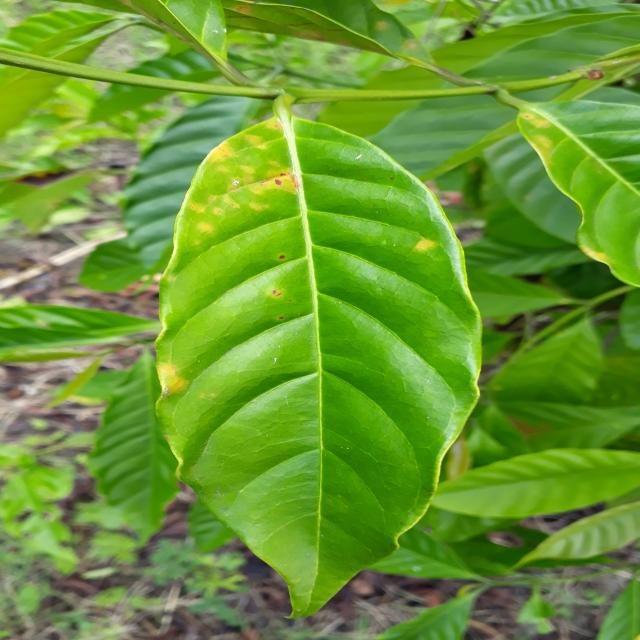Enfermedad-Roya: (156, 100, 483, 619)
